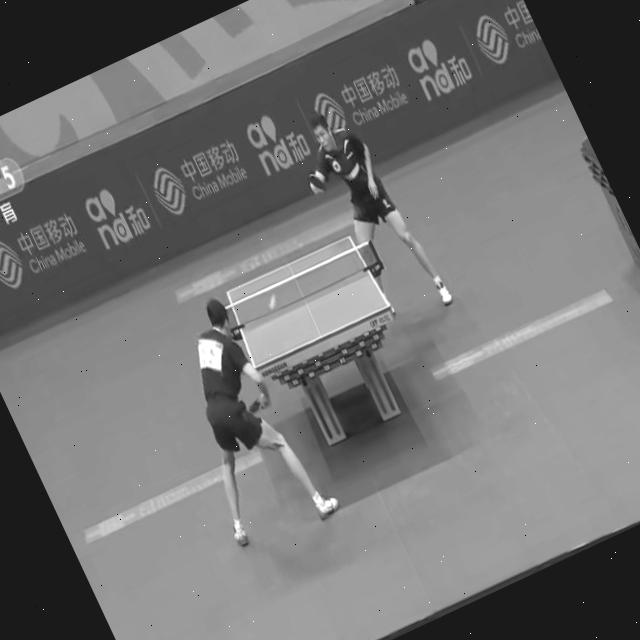ping-pong-ball: (264, 292, 280, 309)
